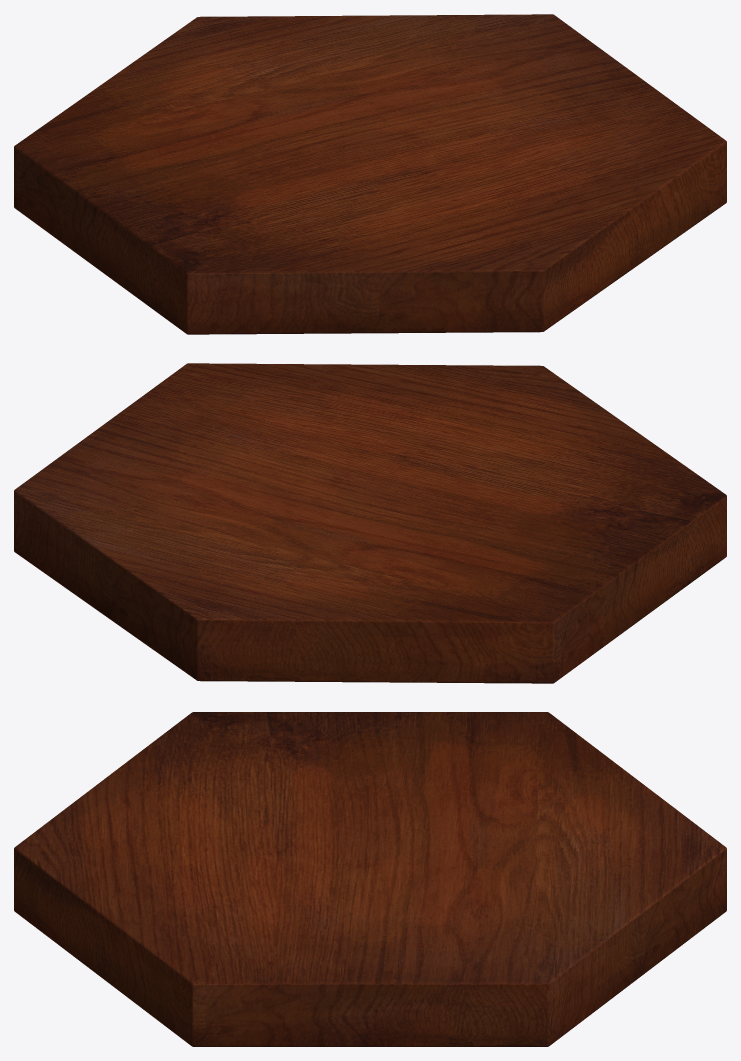
Rendered from Hexagon Coaster_3DBlend.fbx.
The picture shows the model from 3 angles, top to bottom: view 1: azimuth 30°, elevation 25°; view 2: azimuth 150°, elevation 25°; view 3: azimuth 270°, elevation 25°; orthographic projection. The views are drawn at different scales.
Parts seen in each view (by area): view 1: Hexagon Coaster Walnut; view 2: Hexagon Coaster Walnut; view 3: Hexagon Coaster Walnut.
Part boxes in pixels (x1,y1,x2,y2): Hexagon Coaster Walnut: (14,14,726,334); Hexagon Coaster Walnut: (14,363,726,683); Hexagon Coaster Walnut: (14,712,726,1046).
Size of the model in its own units: 9 by 1 by 9.98.
1 material, 1 textured.
